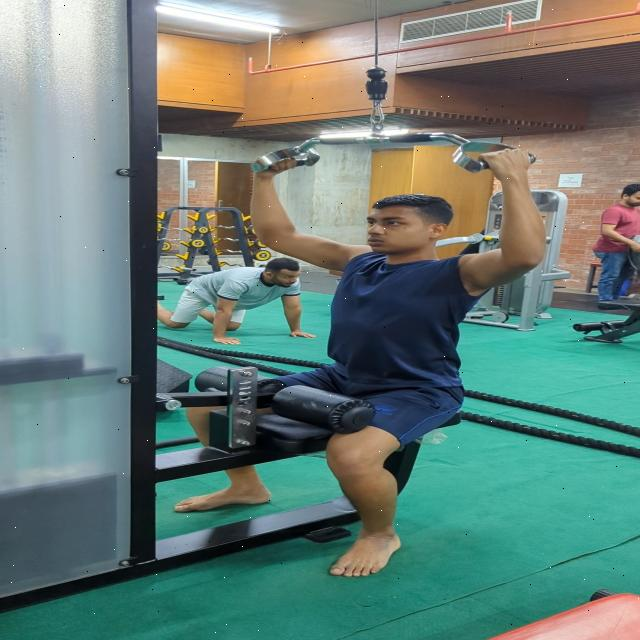Normal_LatPulldown: (208, 140, 551, 582)
